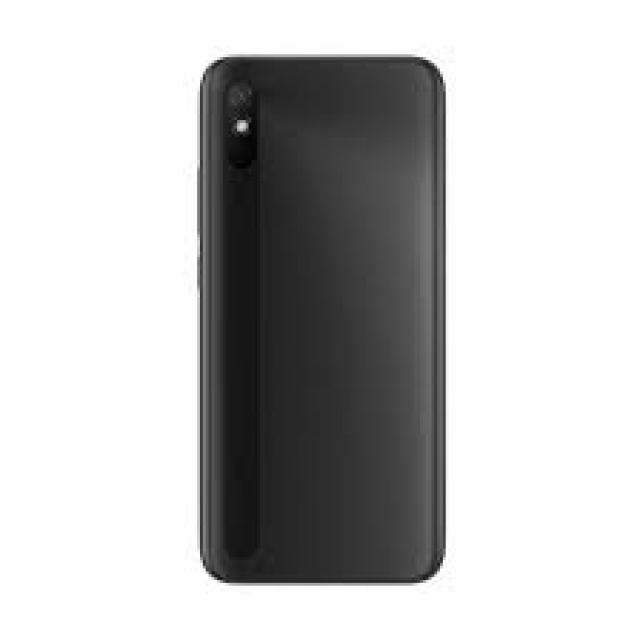No gun_phone: (202, 55, 448, 587)
